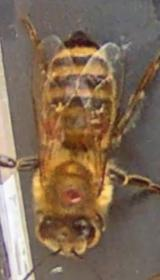varroa_mite: (59, 182, 90, 206)
